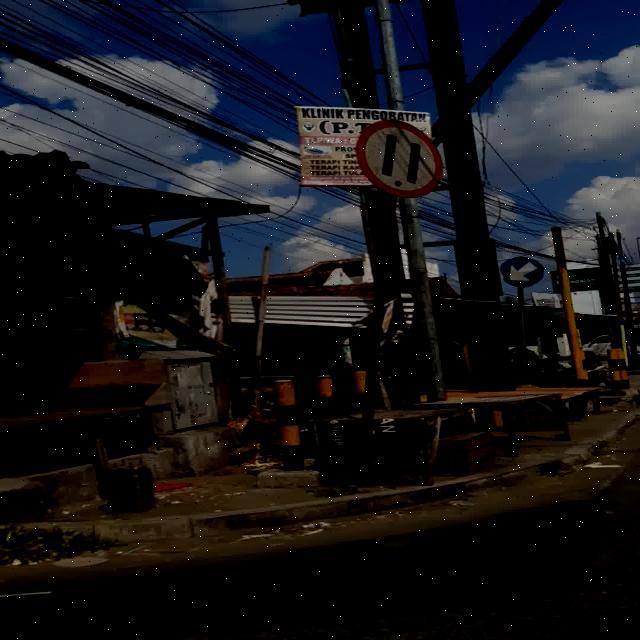Larangan Muatan - 10 ton: (357, 120, 442, 197)
